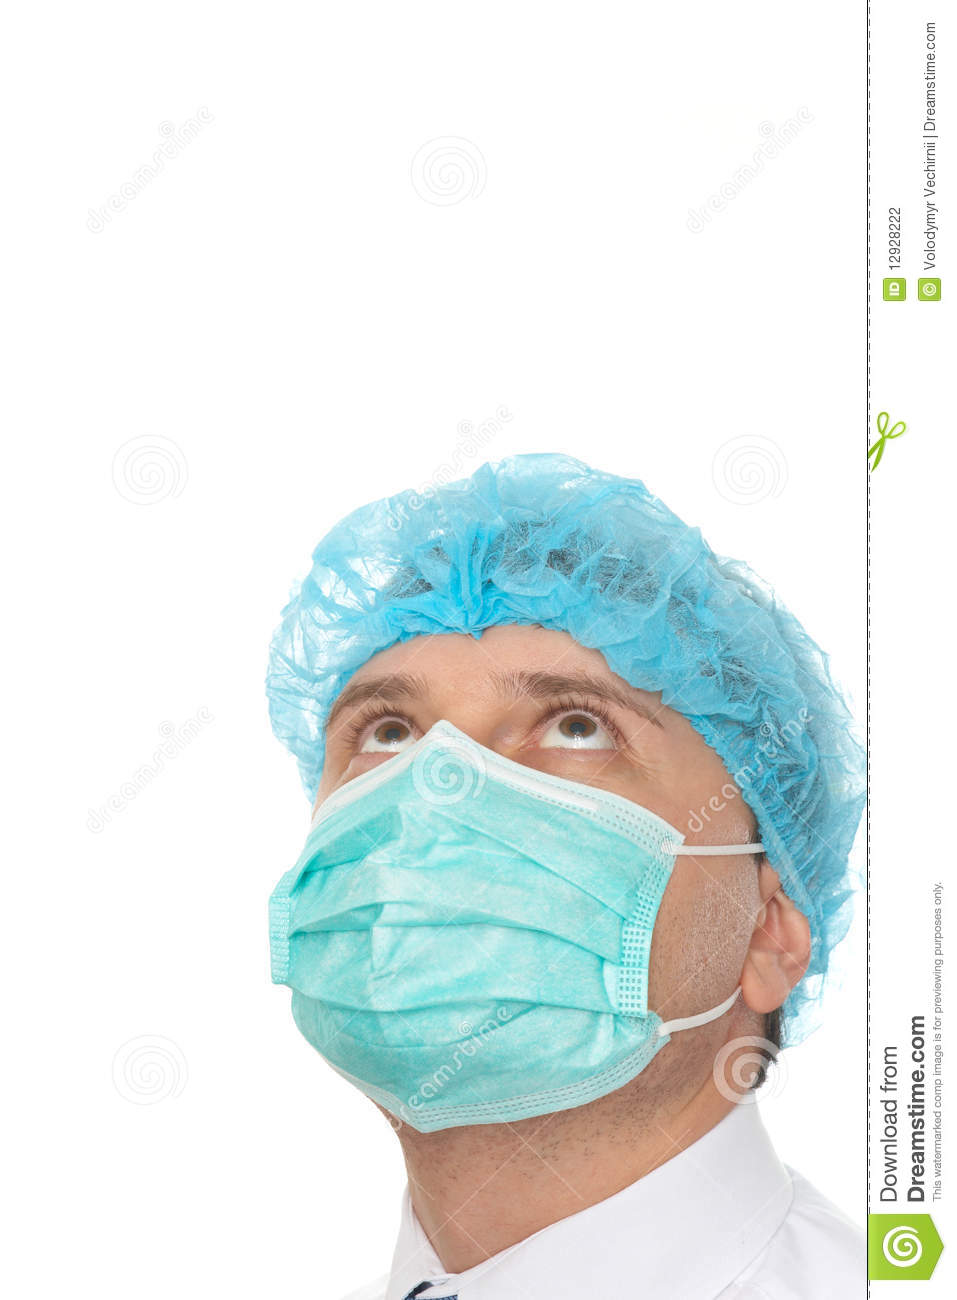mask: (242, 763, 692, 1115)
